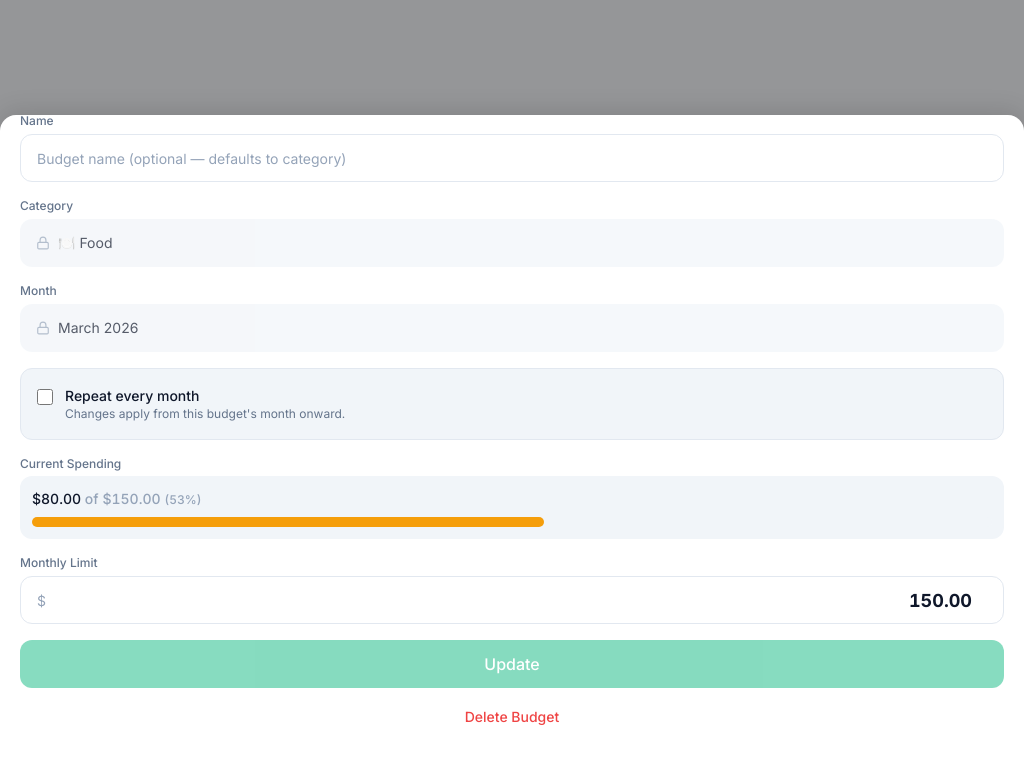
Scenario: EditBudgetSheet › confirmation dialog shows category name and amount
The width and height of the screenshot is (1024, 768).
(page scrolled)
Click the button with test id "delete-btn".
click(512, 716)  # box [20,696,1004,736]
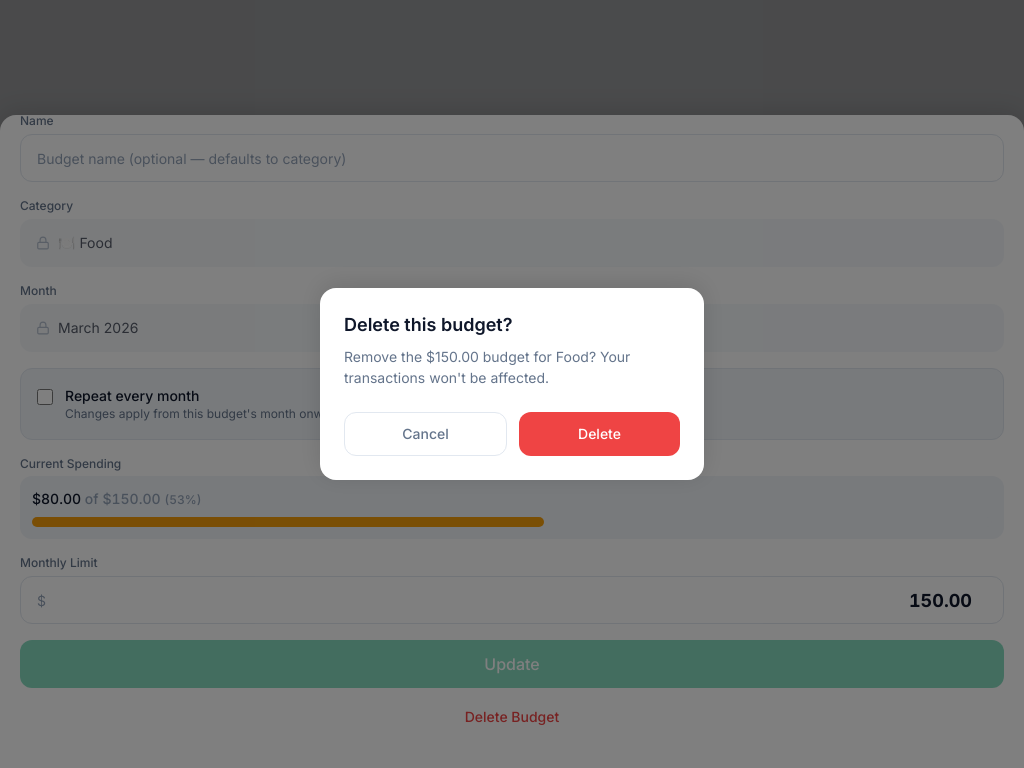
Expected: the dialog with test id "delete-confirm-dialog" shows "Food", [344,348,630,386]
Expected: the dialog with test id "delete-confirm-dialog" shows "$150.00", [344,348,630,386]
